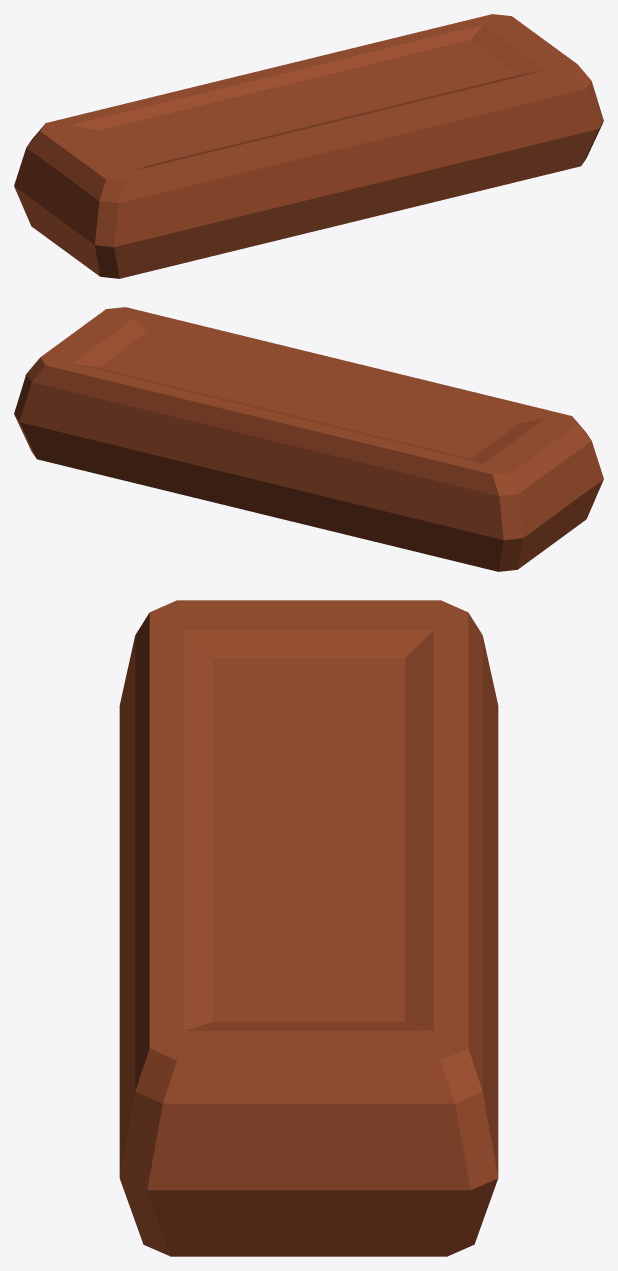
The model's file is BlockClayC.fbx.
The picture shows the model from 3 angles, top to bottom: view 1: azimuth 30°, elevation 25°; view 2: azimuth 150°, elevation 25°; view 3: azimuth 270°, elevation 25°; orthographic projection. The views are drawn at different scales.
Visible parts, largest first — view 1: BlockClayC; view 2: BlockClayC; view 3: BlockClayC.
Boxes of the visible parts, x1,y1,x2,y2 form: BlockClayC: [14, 14, 603, 278]; BlockClayC: [14, 307, 603, 571]; BlockClayC: [119, 600, 498, 1256].
Bounding box in the file's own units: 81.72 × 14.5 × 26.32.
